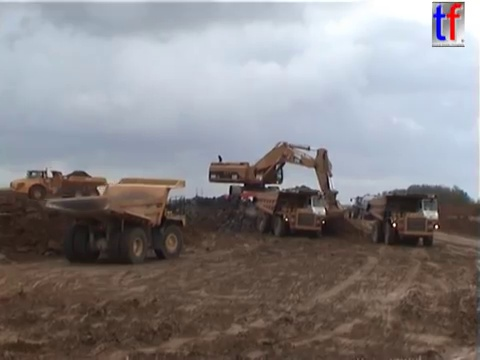excavator: (206, 139, 347, 225), (212, 190, 290, 216)
truck: (43, 176, 188, 265), (364, 193, 440, 247), (250, 186, 328, 236), (8, 166, 108, 203), (348, 193, 383, 221)
